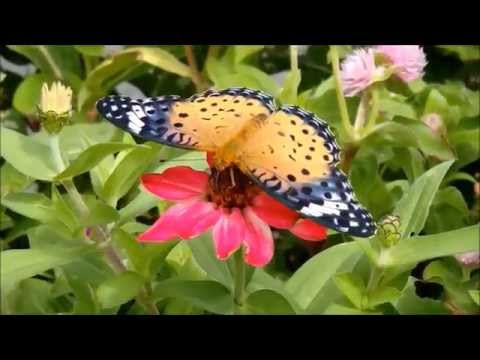Argyreus hyperbius: (94, 80, 377, 243)
butterfly: (96, 82, 379, 245)
